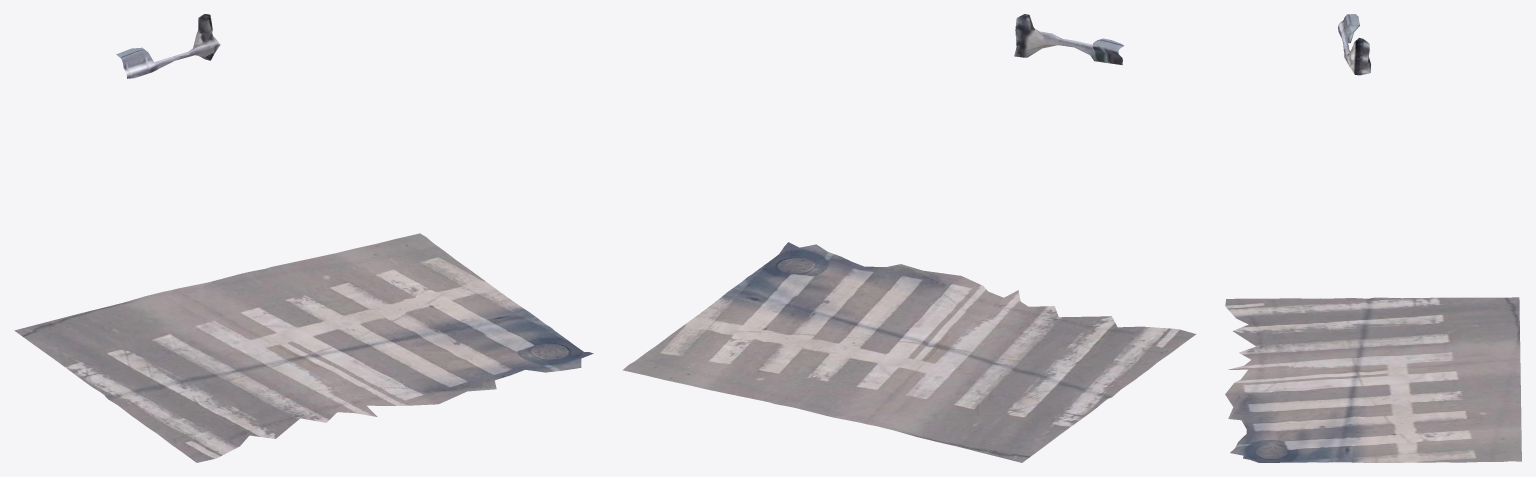
Rendered from Tile_+006_+007_L22_0000020.glb.
3 renders of one model, left to right at view 1: azimuth 30°, elevation 25°; view 2: azimuth 150°, elevation 25°; view 3: azimuth 270°, elevation 25°, orthographic. The views are drawn at different scales.
Parts seen in each view (by area): view 1: rtc; view 2: rtc; view 3: rtc.
Part boxes in pixels (x1,y1,x2,y2): rtc: [14, 14, 593, 462]; rtc: [622, 14, 1196, 462]; rtc: [1225, 14, 1521, 462].
Bounding box in the file's own units: 8.86 × 7.62 × 6.85.
1 material, 1 textured.
